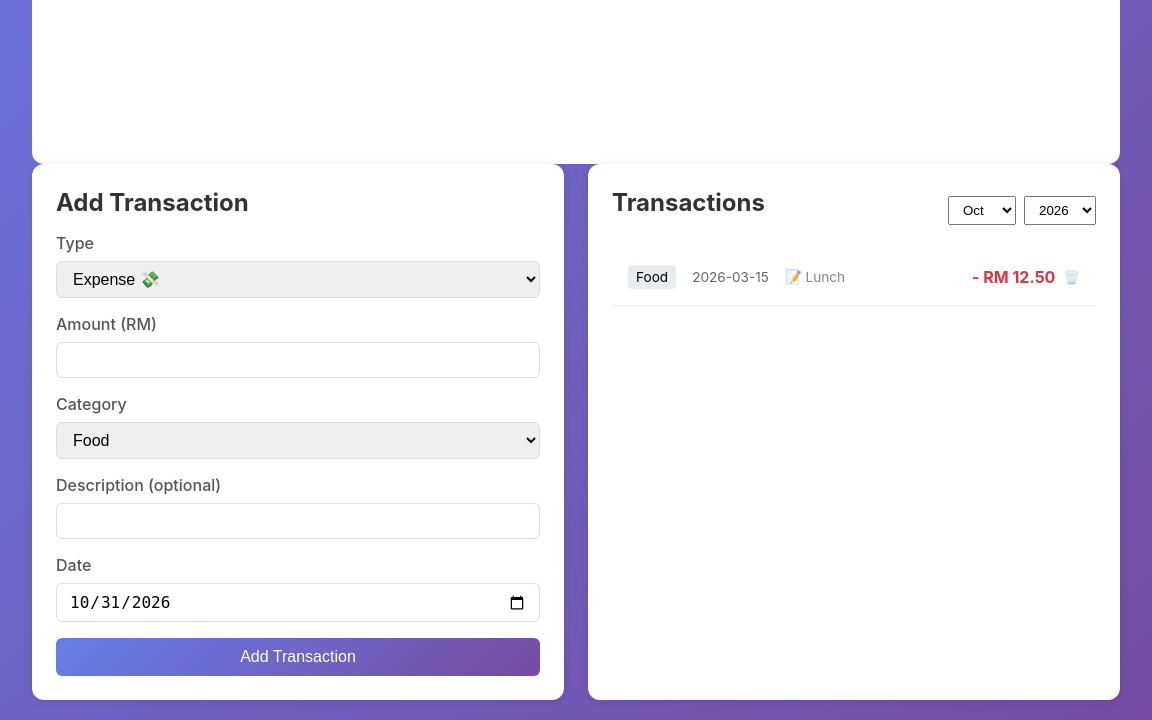
Scenario: shows the API error when adding a transaction fails
(page scrolled)
Type "5" into the number field labelled "Amount (RM)" at point(298, 360), box x1=56 y1=342 x2=540 y2=378
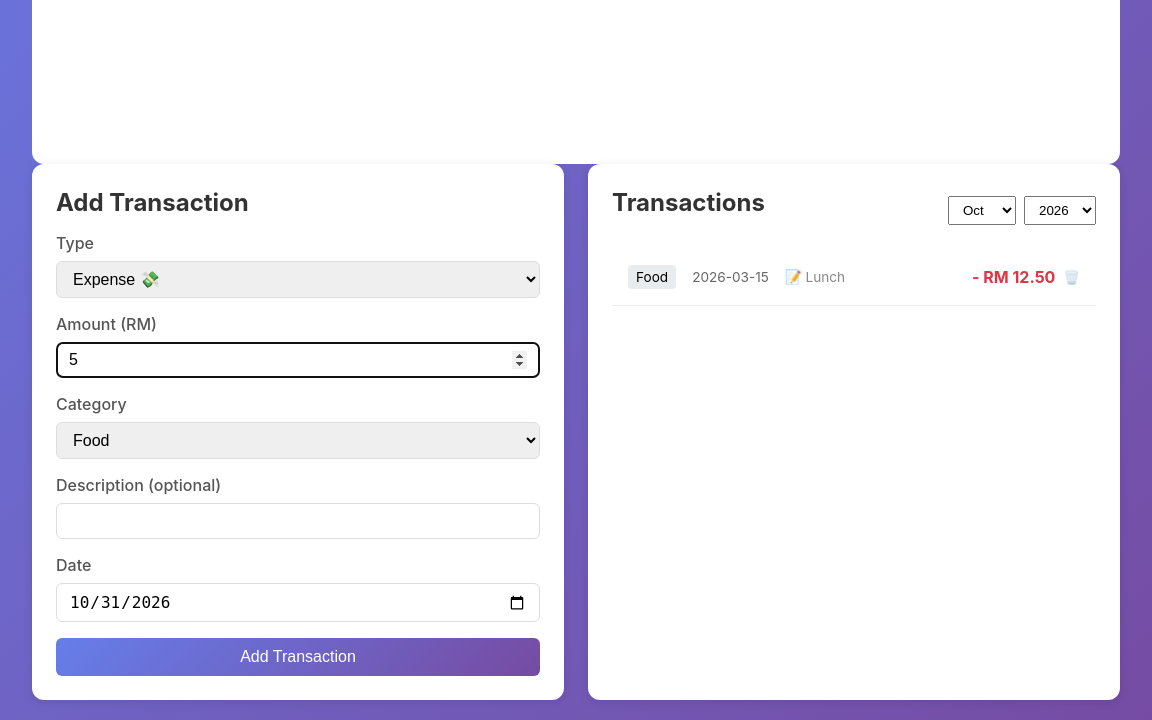
Click the button "Add Transaction" at point(298, 657), box x1=56 y1=638 x2=540 y2=676
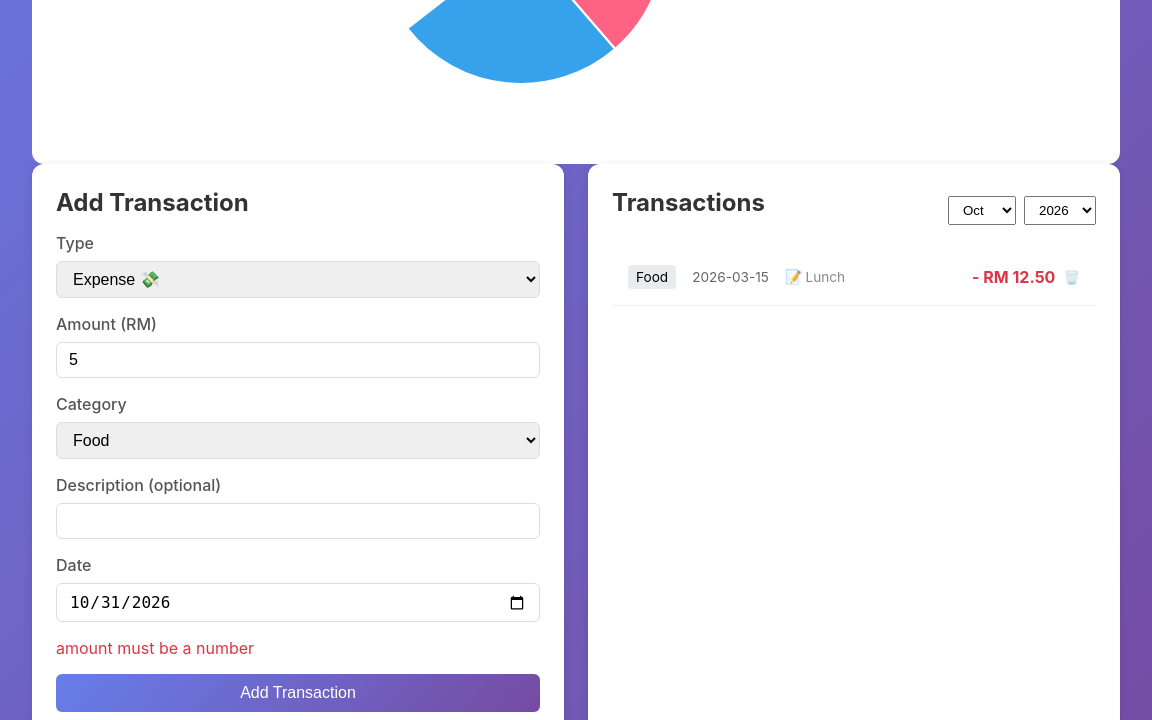
Expected: the text "amount must be a number" is shown, x1=56 y1=638 x2=254 y2=658
